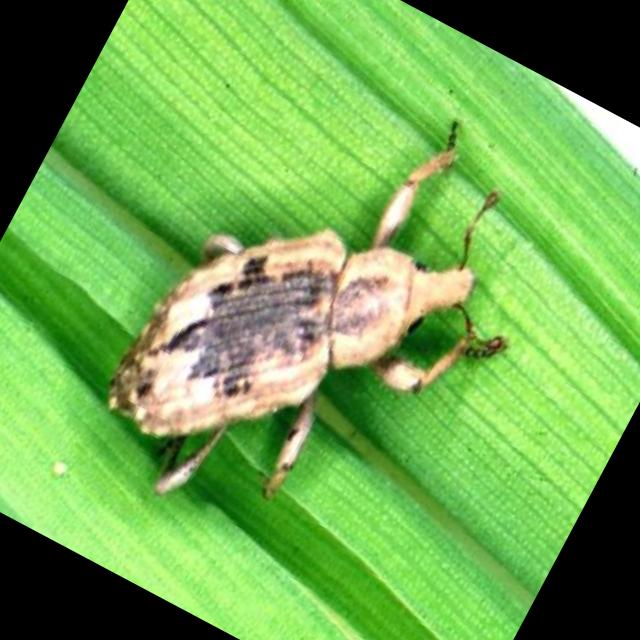rice-bug: (74, 88, 532, 589)
